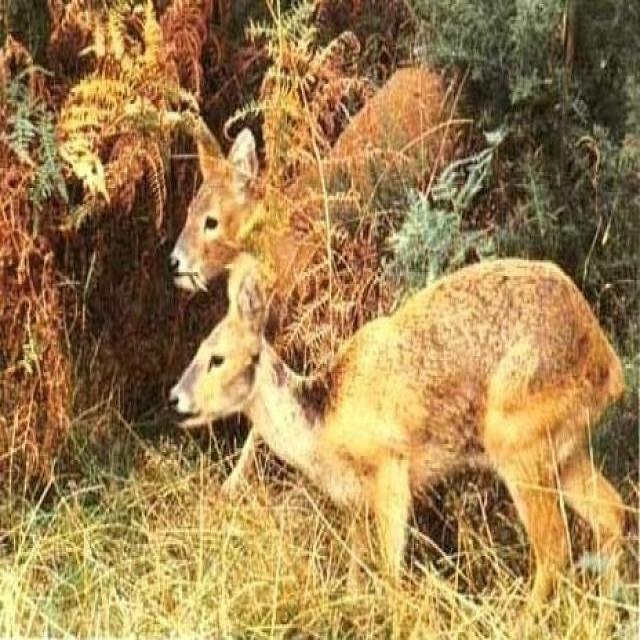deer: (166, 270, 632, 613), (146, 64, 477, 299)
